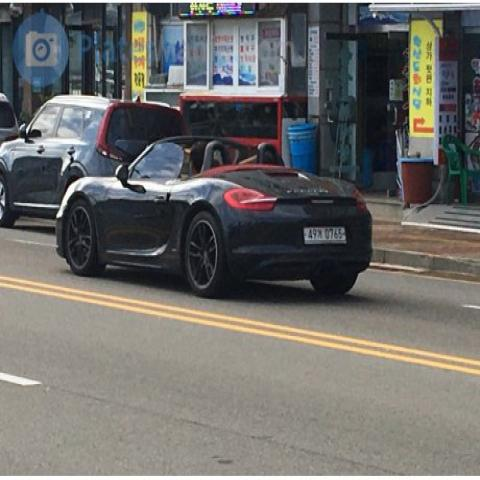LP: (297, 215, 351, 254)
